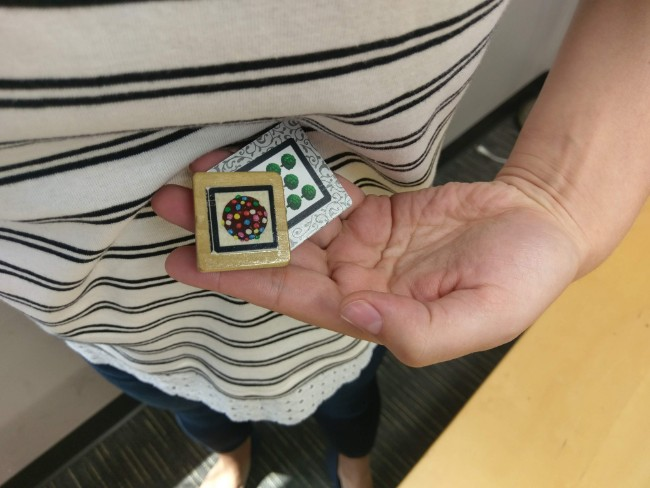cookie: (203, 175, 282, 257)
